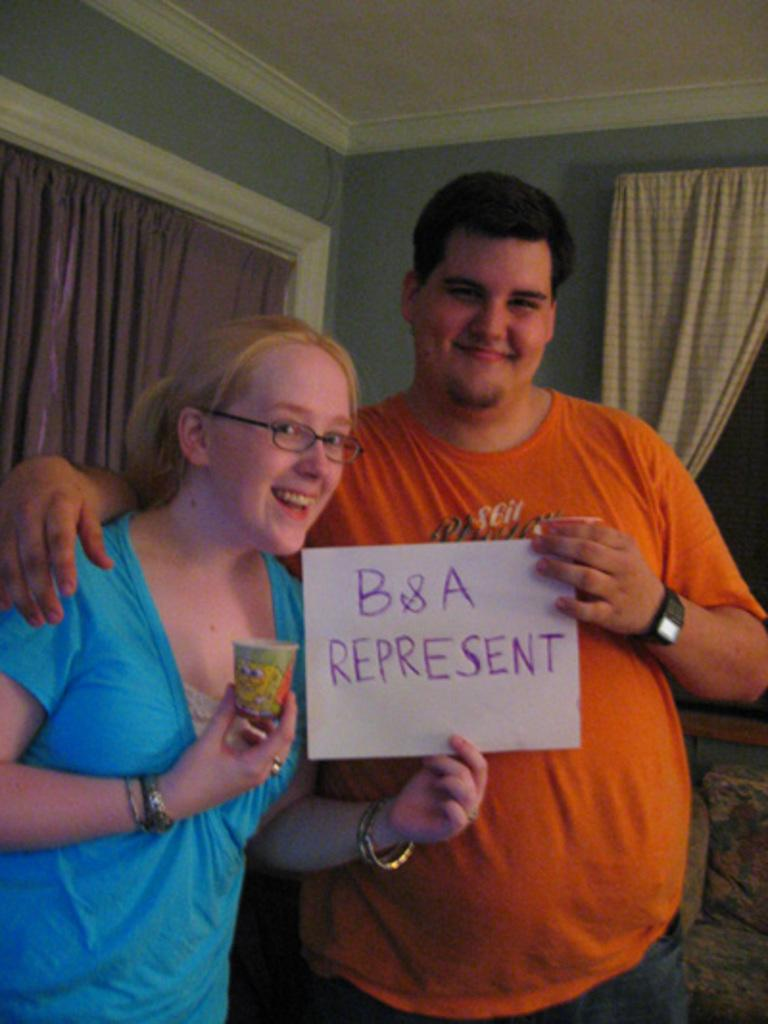Sem Máscara: (400, 184, 584, 397), (190, 325, 355, 557)
